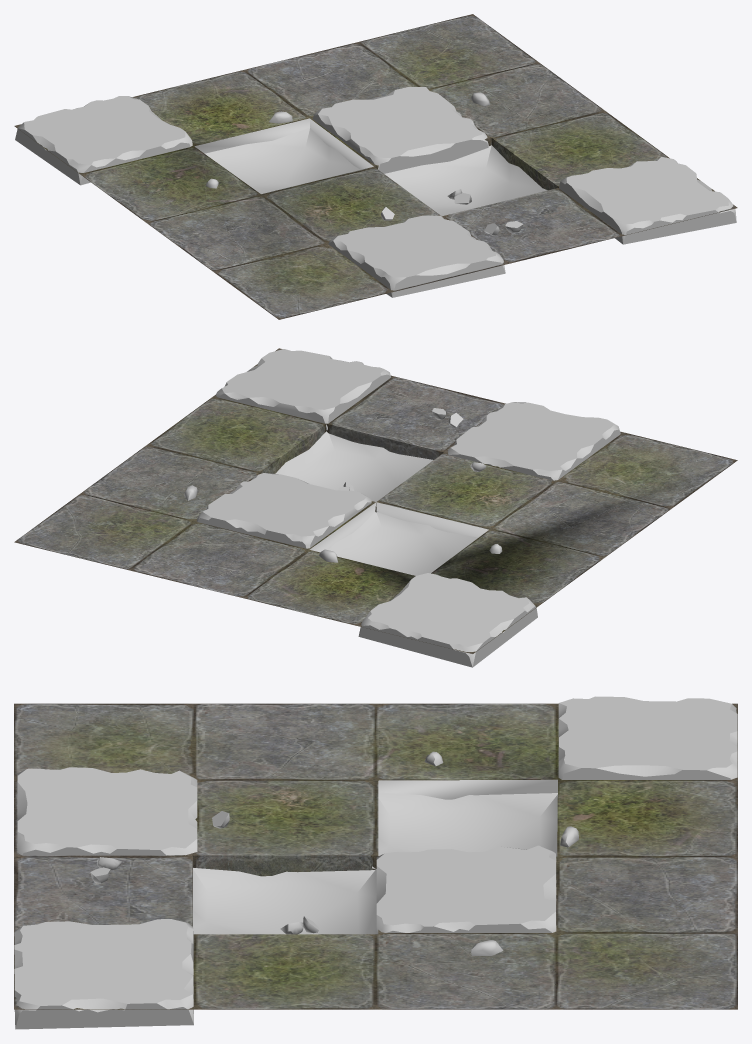
The model's file is Floor_Lvl2_12.fbx.
3 renders of one model, top to bottom at view 1: azimuth 30°, elevation 25°; view 2: azimuth 150°, elevation 25°; view 3: azimuth 270°, elevation 25°, orthographic. The views are drawn at different scales.
Parts seen in each view (by area): view 1: StoneFloor.006; view 2: StoneFloor.006; view 3: StoneFloor.006.
Part boxes in pixels (<box>): StoneFloor.006: <box>14,14,737,319</box>; StoneFloor.006: <box>14,348,737,667</box>; StoneFloor.006: <box>14,696,737,1029</box>.
Bounding box in the file's own units: 382 × 31.87 × 382.
